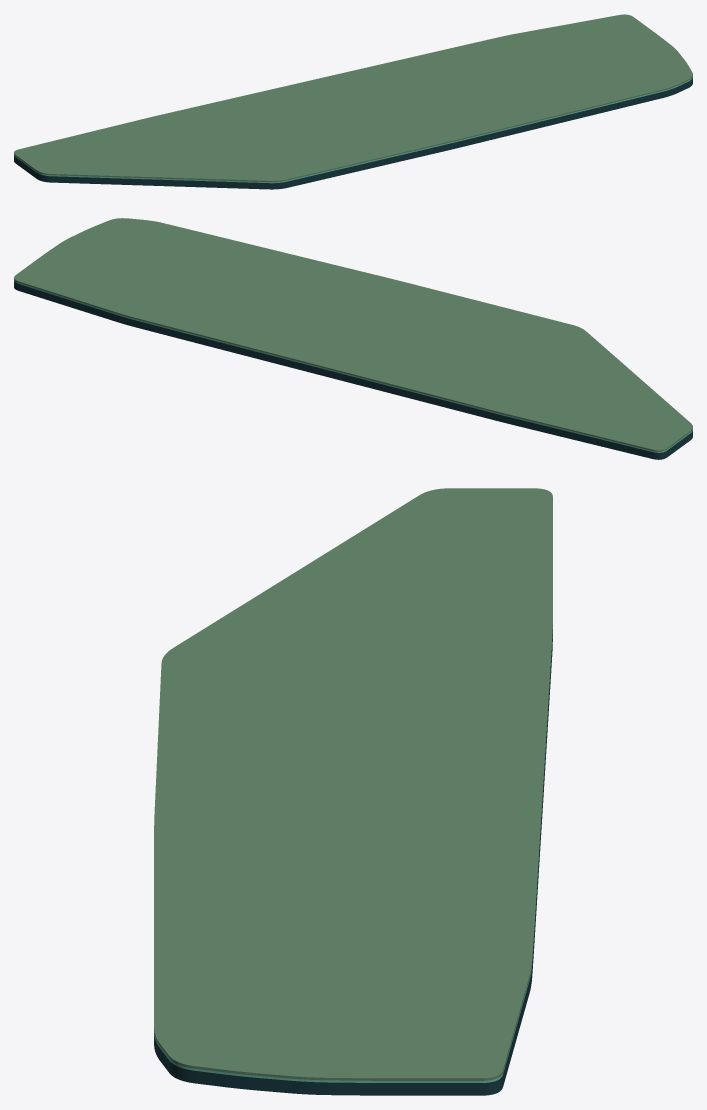
The model's file is squiggle_base.glb.
3 views of the same model, one above another, from view 1: azimuth 30°, elevation 25°; view 2: azimuth 150°, elevation 25°; view 3: azimuth 270°, elevation 25° (orthographic). The views are drawn at different scales.
Visible parts, largest first — view 1: BASE_infield_surface_NEW_V2, BASE_sculpted_silhouette_NEW_V2, BASE_thin_mint_rim_NEW_V2; view 2: BASE_infield_surface_NEW_V2, BASE_sculpted_silhouette_NEW_V2, BASE_thin_mint_rim_NEW_V2; view 3: BASE_infield_surface_NEW_V2, BASE_sculpted_silhouette_NEW_V2, BASE_thin_mint_rim_NEW_V2.
Part boxes in pixels (x1,y1,x2,y2): BASE_infield_surface_NEW_V2: (14,14,692,181); BASE_sculpted_silhouette_NEW_V2: (14,78,692,189); BASE_thin_mint_rim_NEW_V2: (14,77,692,183); BASE_infield_surface_NEW_V2: (14,218,692,451); BASE_sculpted_silhouette_NEW_V2: (14,281,692,459); BASE_thin_mint_rim_NEW_V2: (14,280,692,452); BASE_infield_surface_NEW_V2: (154,488,552,1080); BASE_sculpted_silhouette_NEW_V2: (154,629,552,1095); BASE_thin_mint_rim_NEW_V2: (154,627,552,1082).
Size of the model in its own units: 41.13 by 0.56 by 11.74.
